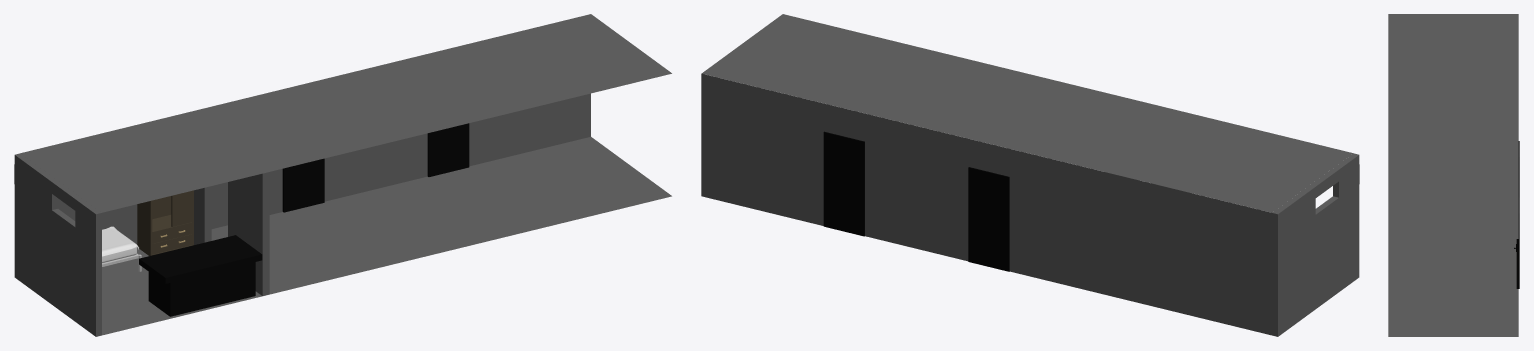
Rendered from police room.fbx.
The picture shows the model from 3 angles, left to right: view 1: azimuth 30°, elevation 25°; view 2: azimuth 150°, elevation 25°; view 3: azimuth 270°, elevation 25°; orthographic projection. The views are drawn at different scales.
Parts seen in each view (by area): view 1: pPlane5, pPlane6, pPlane2, pPlane3, pCube2, pPlane4, pCube23, pCube24, pCube16, pCube31, quilt1:pPlane7; view 2: pPlane2, pPlane5, pPlane3, pCube23, pCube24; view 3: pPlane5, pPlane6, pPlane3, pCube24, pCube23.
Boxes of the visible parts, x1,y1,x2,y2 form: pPlane5: (20, 14, 671, 212); pPlane6: (102, 137, 671, 335); pPlane2: (58, 93, 590, 244); pPlane3: (14, 153, 101, 336); pCube2: (139, 235, 262, 316); pPlane4: (194, 172, 269, 296); pCube23: (282, 158, 324, 212); pCube24: (427, 123, 469, 176); pCube16: (137, 190, 193, 255); pCube31: (171, 191, 192, 226); quilt1:pPlane7: (102, 226, 138, 256); pPlane2: (701, 73, 1272, 335); pPlane5: (702, 14, 1353, 212); pPlane3: (1272, 153, 1359, 336); pCube23: (968, 167, 1009, 271); pCube24: (823, 131, 864, 236); pPlane5: (1388, 16, 1518, 238); pPlane6: (1388, 239, 1518, 336); pPlane3: (1388, 14, 1518, 16); pCube24: (1514, 197, 1519, 288); pCube23: (1518, 141, 1519, 197).
Bounding box in the file's own units: 57.27 × 11.66 × 14.12.
